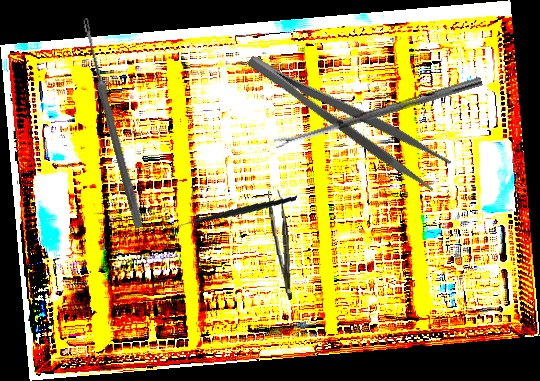Chopper: (176, 181, 297, 248)
Dressing Forceps: (243, 34, 453, 195)
Surgical Spoon: (273, 75, 483, 149), (79, 17, 145, 229)
Tissue Forceps: (268, 189, 292, 301)
